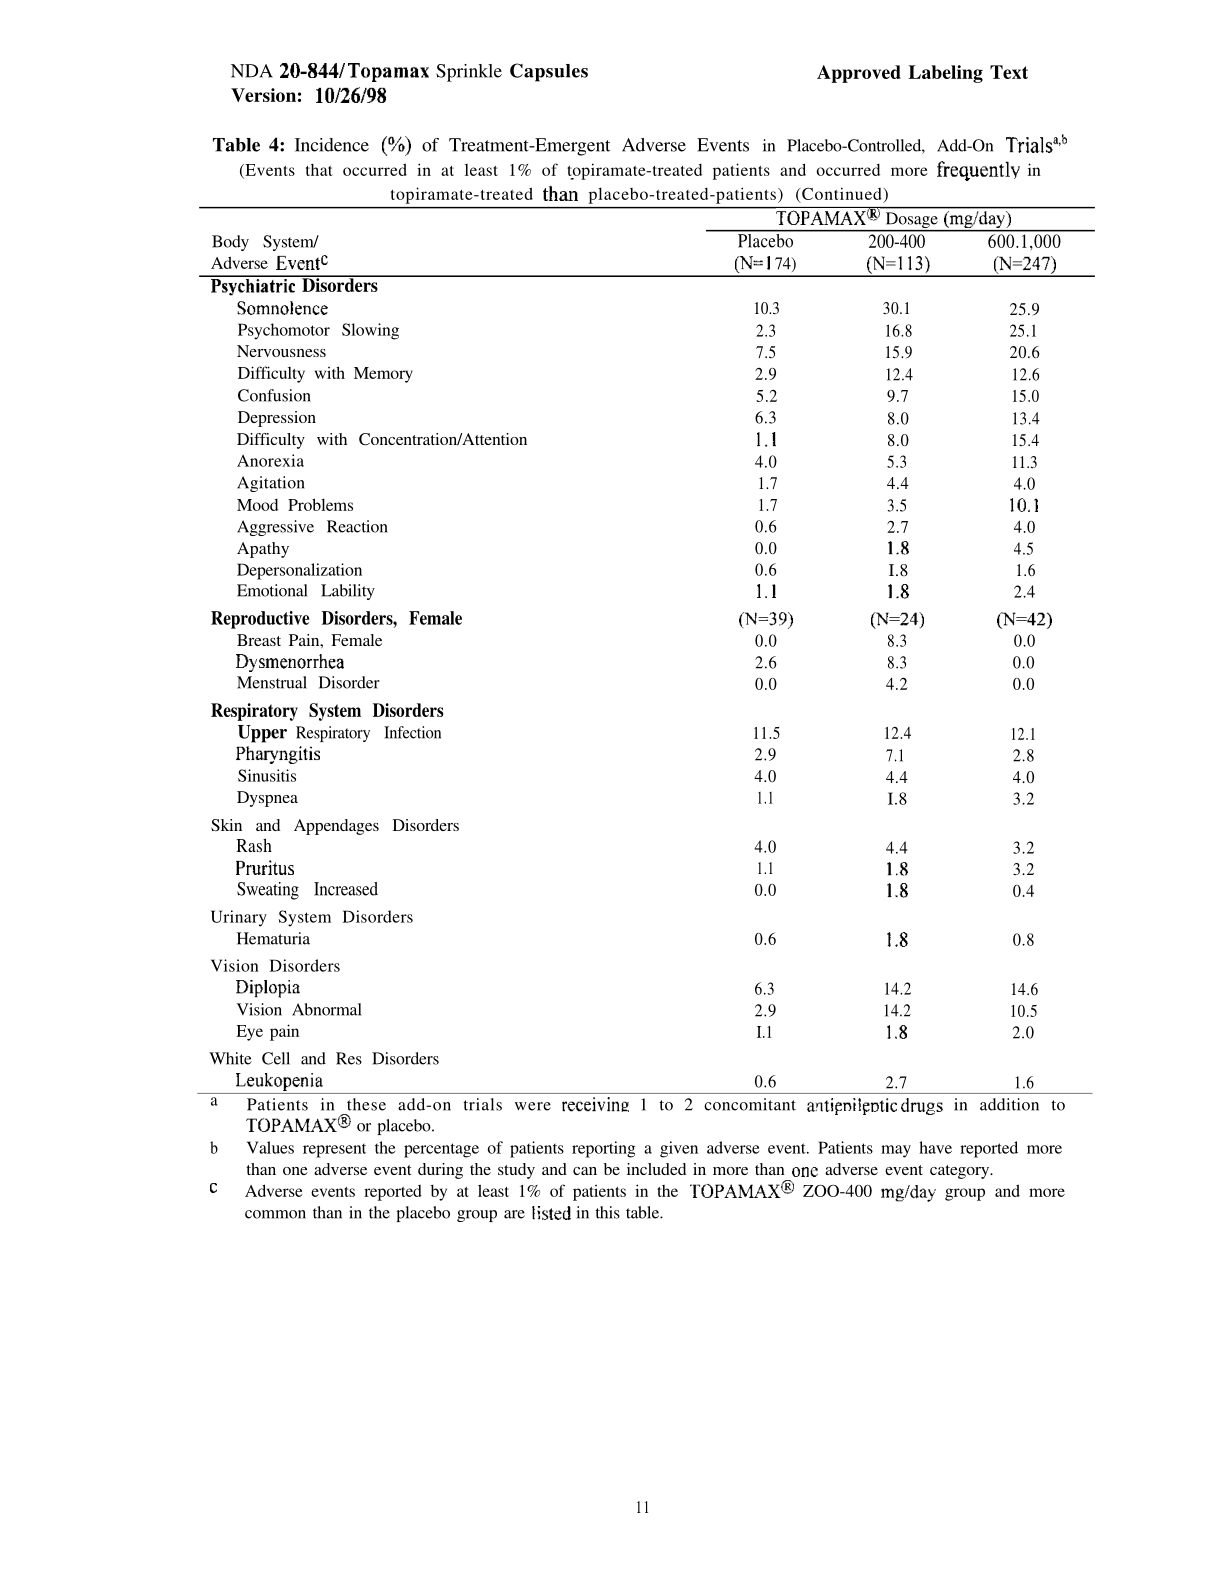partial_lined_merged_cells: (195, 204, 1096, 1095)
